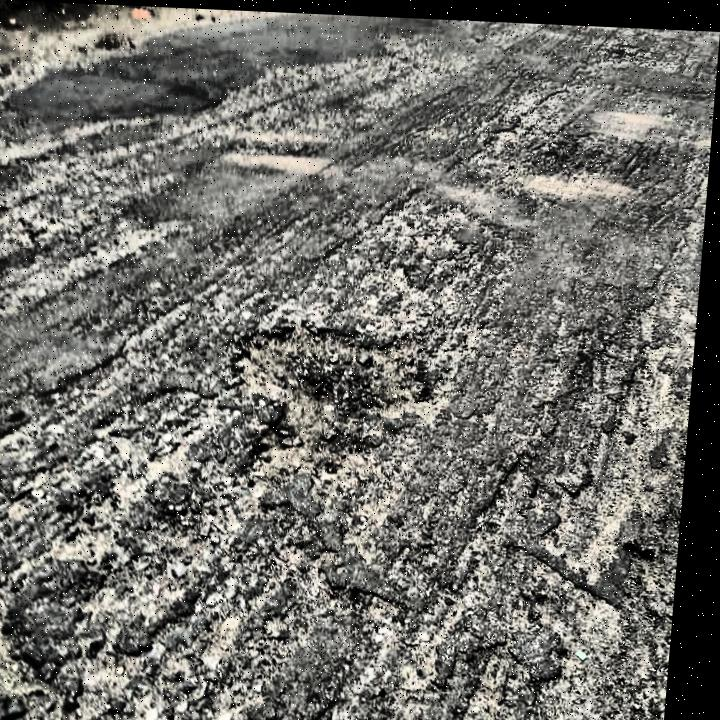pothole: (226, 308, 443, 486)
